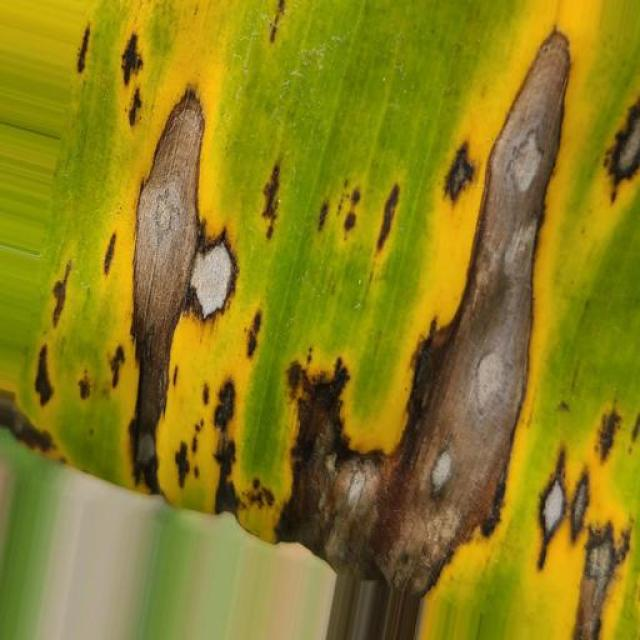Early_rust: (19, 0, 640, 605)
